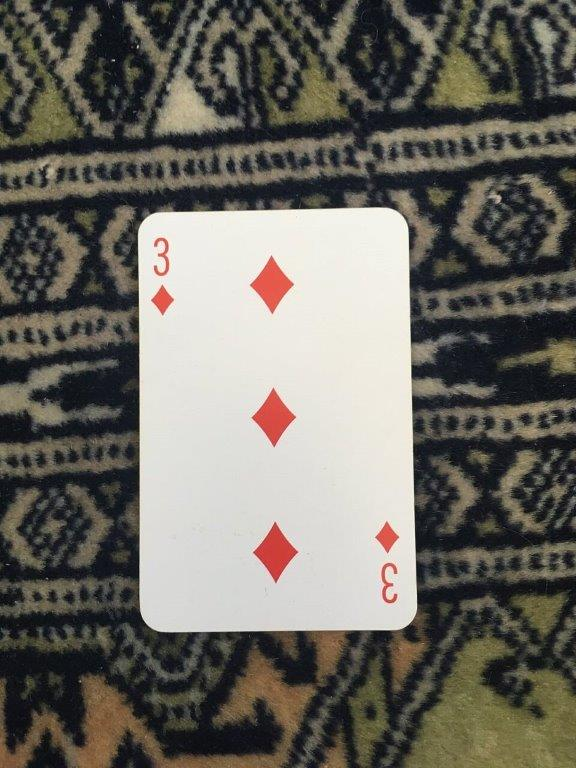3D: (133, 204, 420, 636)
